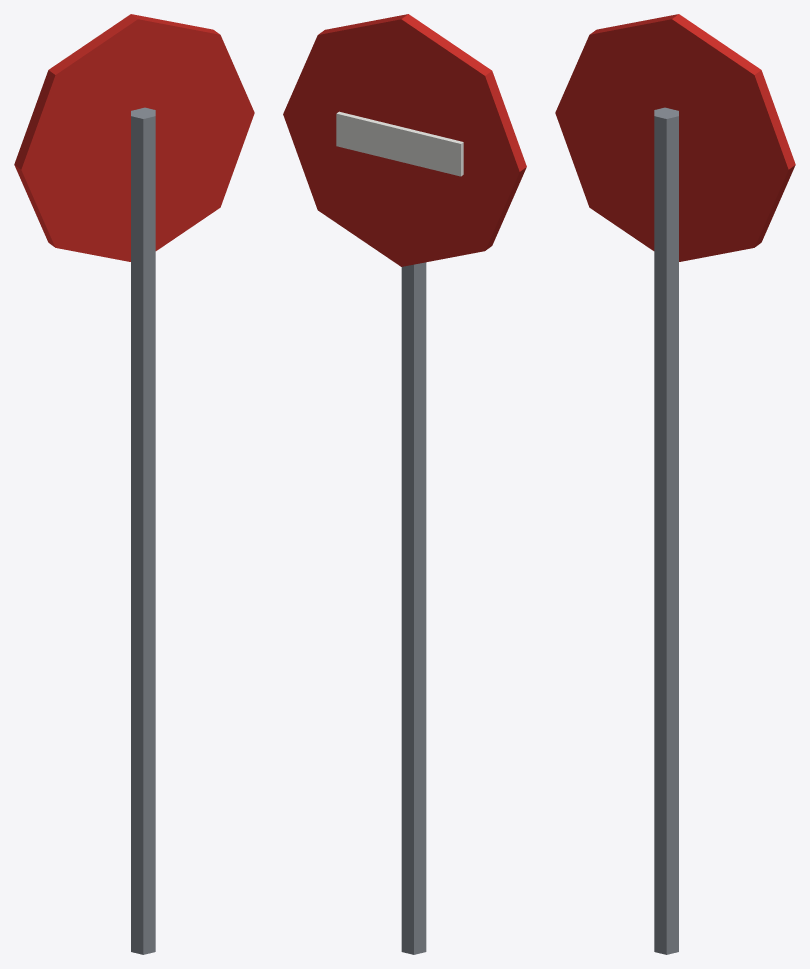
Rendered from prop_sign_stop.glb.
3 renders of one model, left to right at view 1: azimuth 30°, elevation 25°; view 2: azimuth 150°, elevation 25°; view 3: azimuth 330°, elevation 25°, orthographic.
Visible parts, largest first — view 1: prop_sign_stop__mesh; view 2: prop_sign_stop__mesh; view 3: prop_sign_stop__mesh.
Part boxes in pixels (left/top/right/bottom): prop_sign_stop__mesh: left=14, top=14, right=254, bottom=954; prop_sign_stop__mesh: left=283, top=14, right=526, bottom=954; prop_sign_stop__mesh: left=555, top=14, right=795, bottom=954.
Bounding box in the file's own units: 0.76 × 2.88 × 0.1196.
